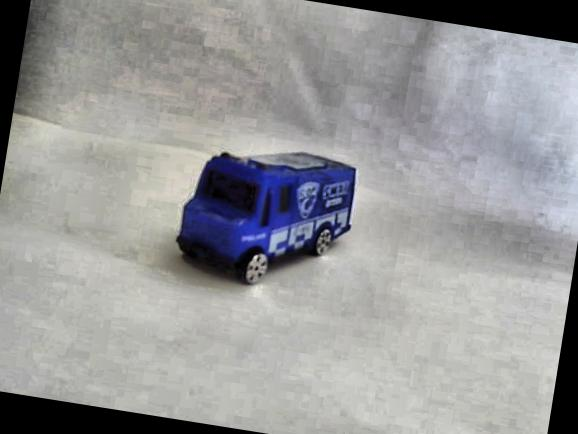police car: (169, 121, 368, 300)
